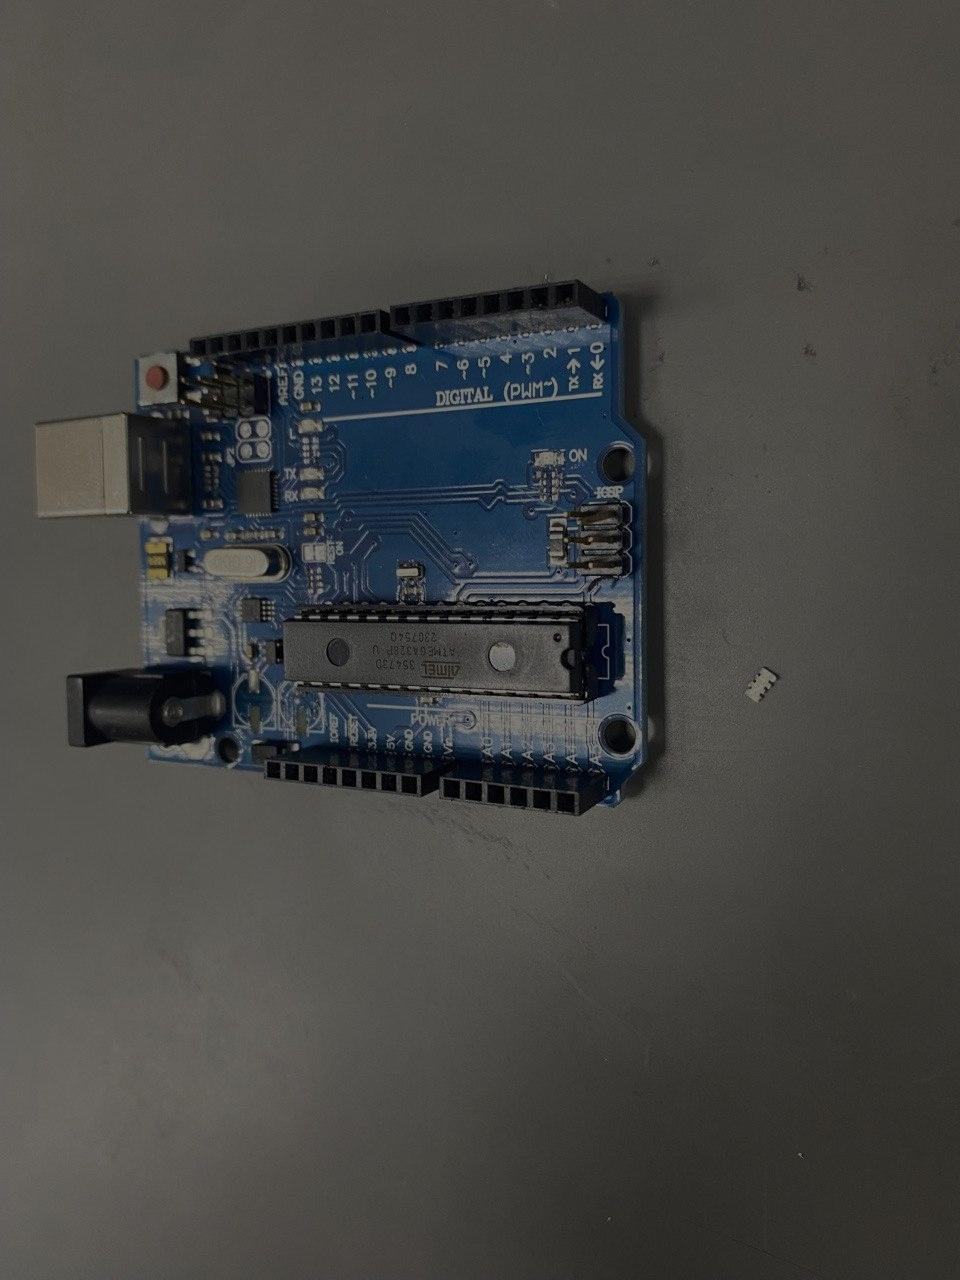ATmega328 chip: (283, 603, 600, 707)
Arduino board: (35, 279, 648, 817)
USB: (35, 412, 195, 519)
pins: (189, 308, 421, 373), (390, 279, 606, 348), (262, 746, 454, 799), (440, 762, 607, 815)
